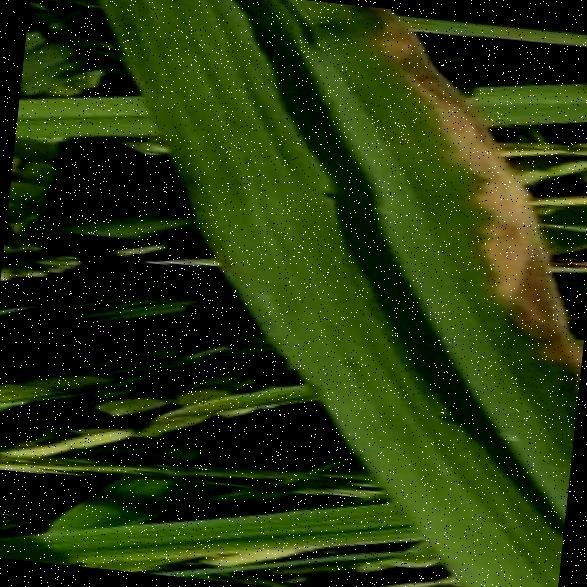Bacteria_Leaf_Blight: (294, 141, 558, 504)
